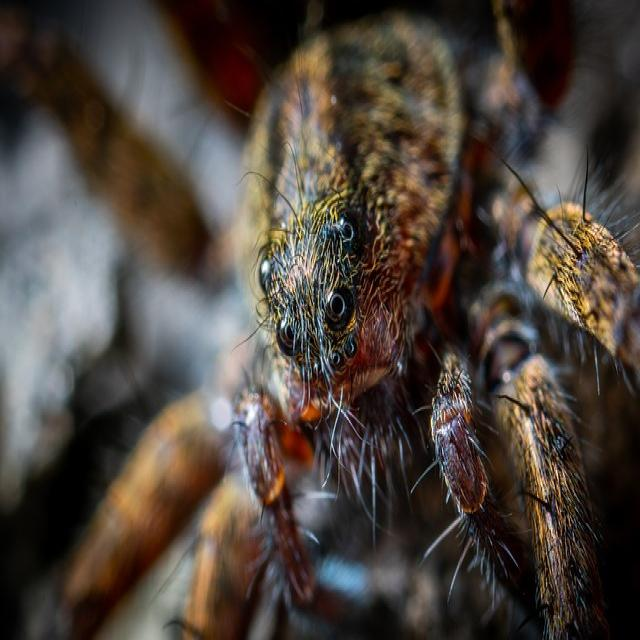spyder: (235, 16, 640, 637)
